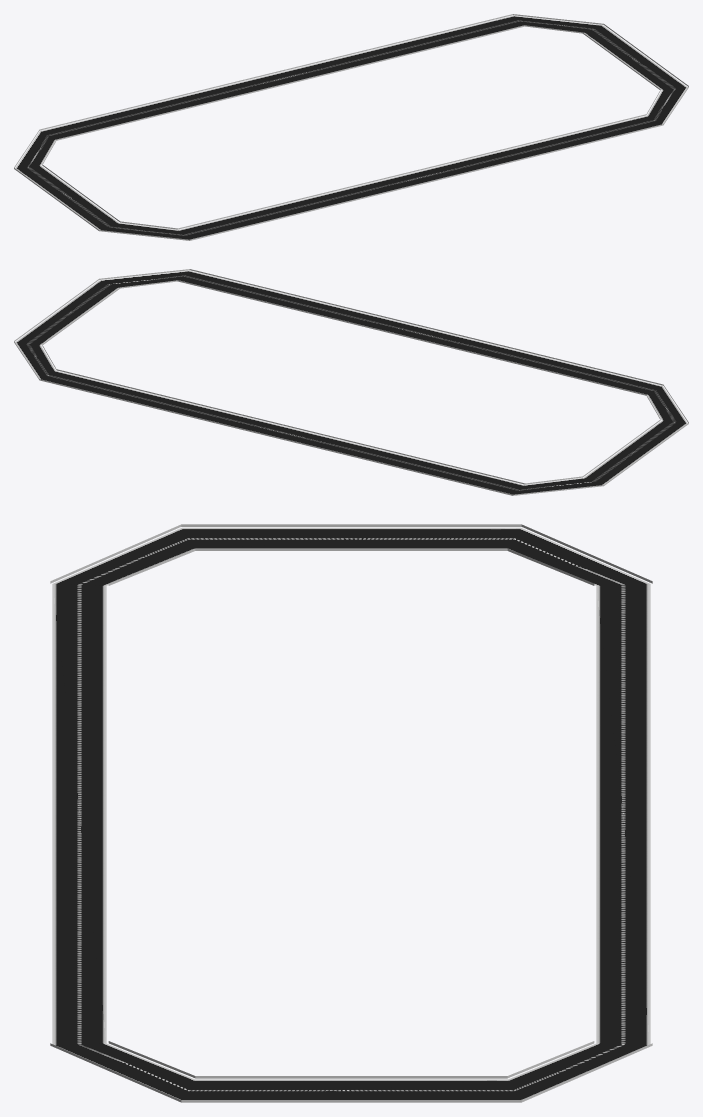
File: foundry-row-circuit.fbx
The picture shows the model from 3 angles, top to bottom: view 1: azimuth 30°, elevation 25°; view 2: azimuth 150°, elevation 25°; view 3: azimuth 270°, elevation 25°; orthographic projection. The views are drawn at different scales.
Visible parts, largest first — view 1: foundry-row-circuit_road, foundry-row-circuit_barrier_left, foundry-row-circuit_barrier_right; view 2: foundry-row-circuit_road, foundry-row-circuit_barrier_left, foundry-row-circuit_barrier_right; view 3: foundry-row-circuit_road, foundry-row-circuit_barrier_left, foundry-row-circuit_barrier_right.
Boxes of the visible parts, bbox=[...] form: foundry-row-circuit_road: bbox=[15, 15, 687, 239]; foundry-row-circuit_barrier_left: bbox=[14, 14, 688, 240]; foundry-row-circuit_barrier_right: bbox=[42, 25, 660, 229]; foundry-row-circuit_road: bbox=[15, 270, 687, 494]; foundry-row-circuit_barrier_left: bbox=[14, 269, 688, 495]; foundry-row-circuit_barrier_right: bbox=[42, 280, 660, 484]; foundry-row-circuit_road: bbox=[52, 527, 650, 1099]; foundry-row-circuit_barrier_left: bbox=[50, 524, 652, 1102]; foundry-row-circuit_barrier_right: bbox=[108, 548, 594, 1078].
Bounding box in the file's own units: 25048 × 50 × 11076.
